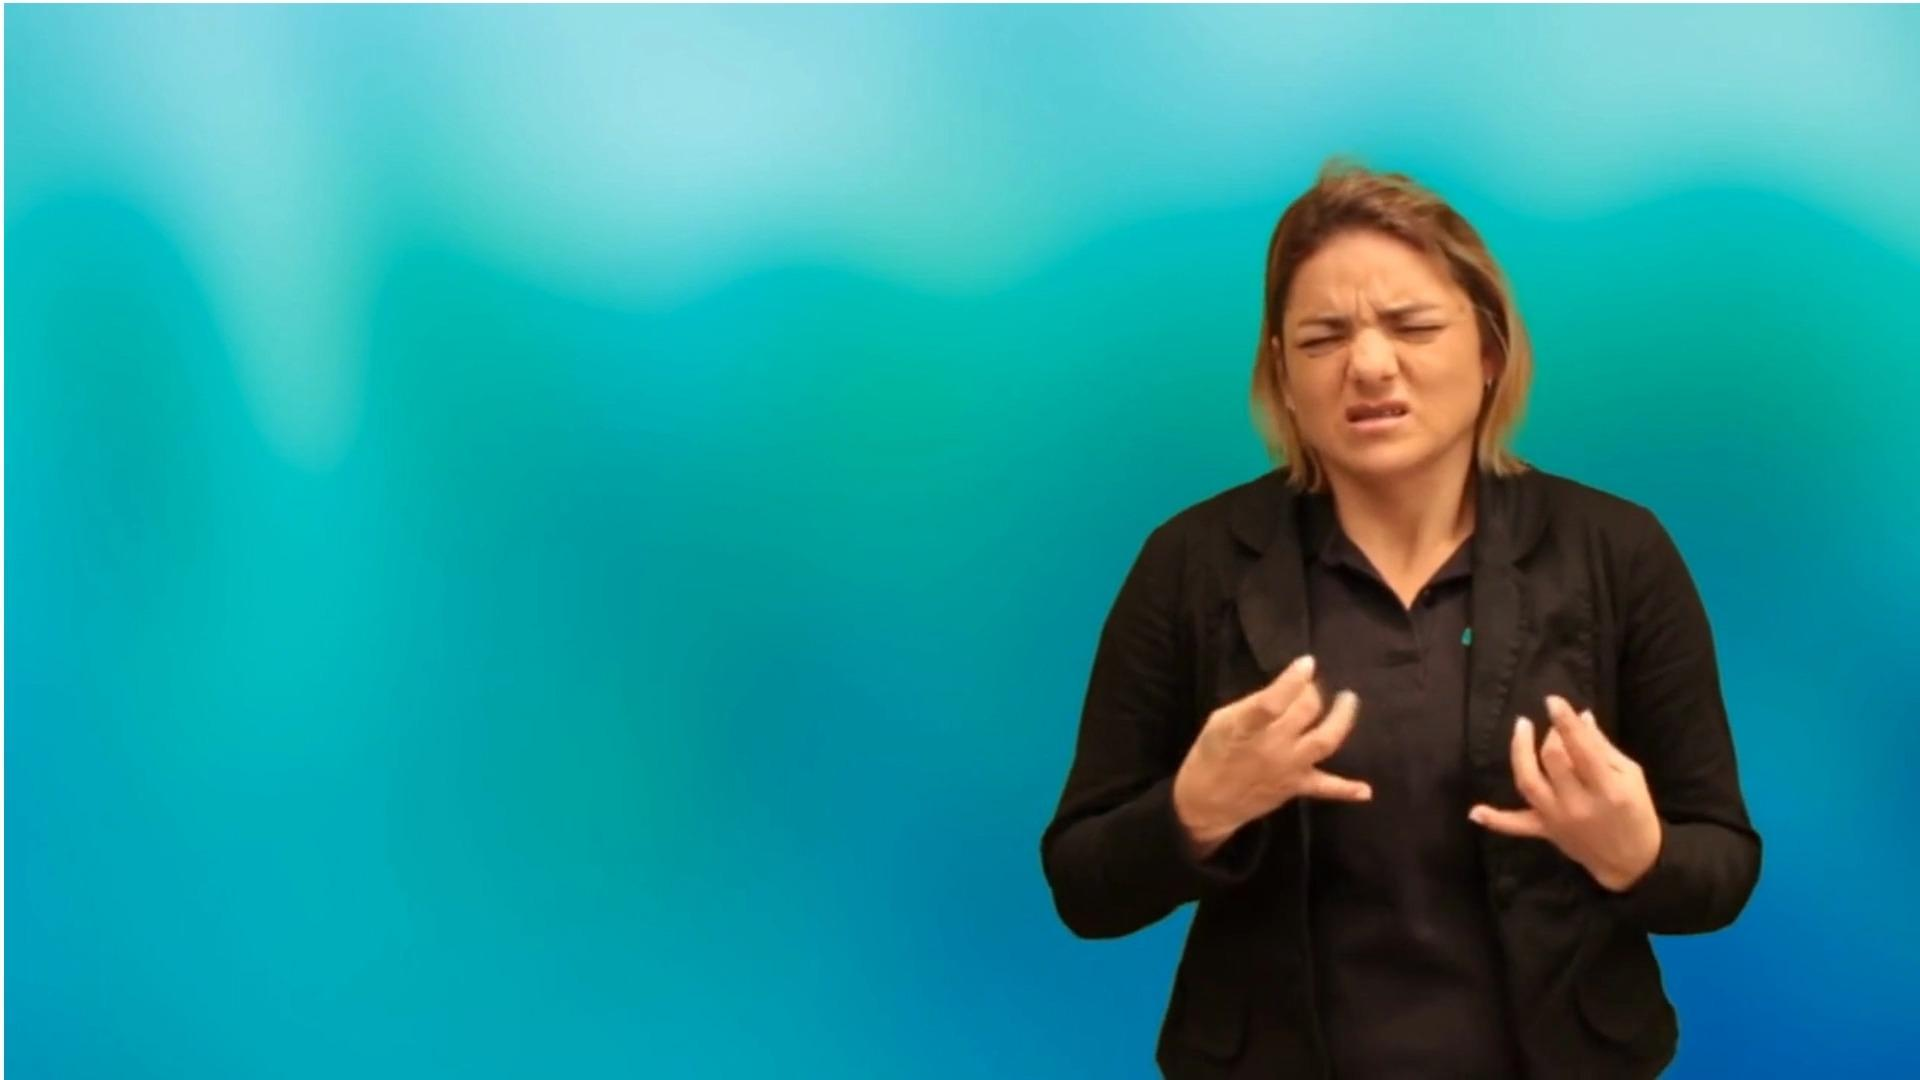Dolor: (1037, 117, 1807, 994)
